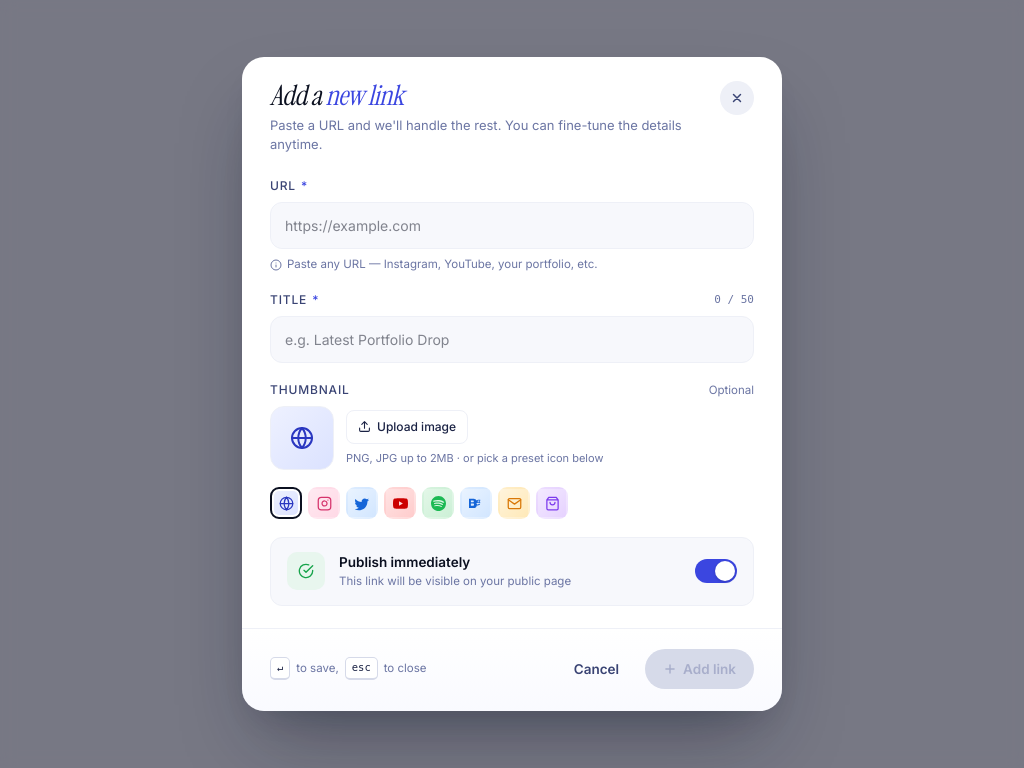
Test case: AddEditLinkModal › shows character counter for title
This screenshot has width=1024, height=768.
Expected: the text "0 / 50" is shown, [714, 292, 754, 308]
In the field with placeholder "e.g. Latest Portfolio Drop": (512, 340) [270, 316, 754, 363], type "Hello"
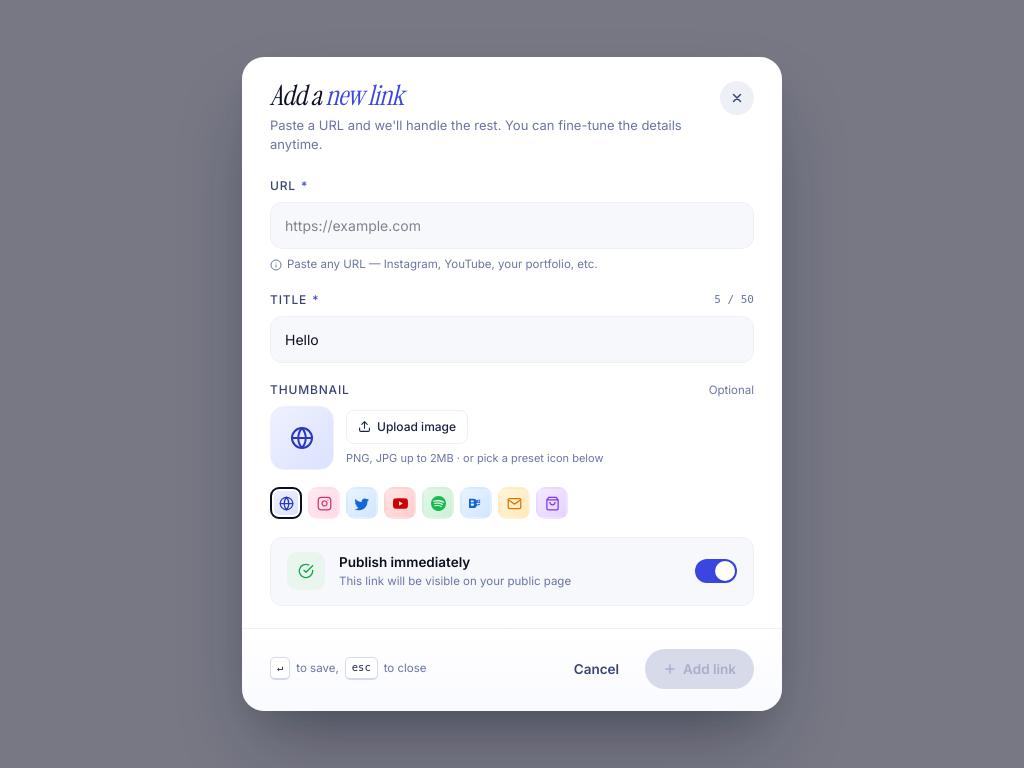
Expected: the text "5 / 50" is shown, [714, 292, 754, 308]
